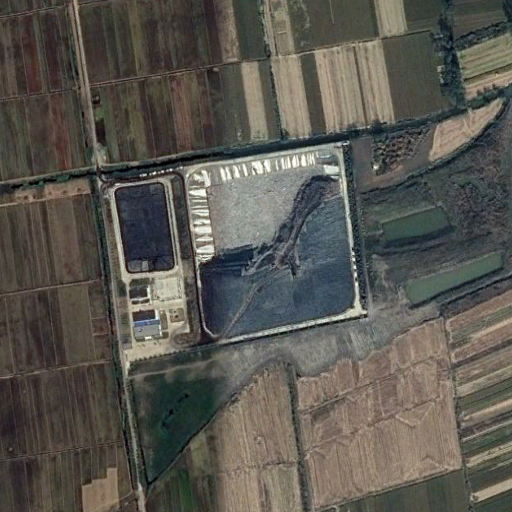lf: (183, 147, 360, 340)
